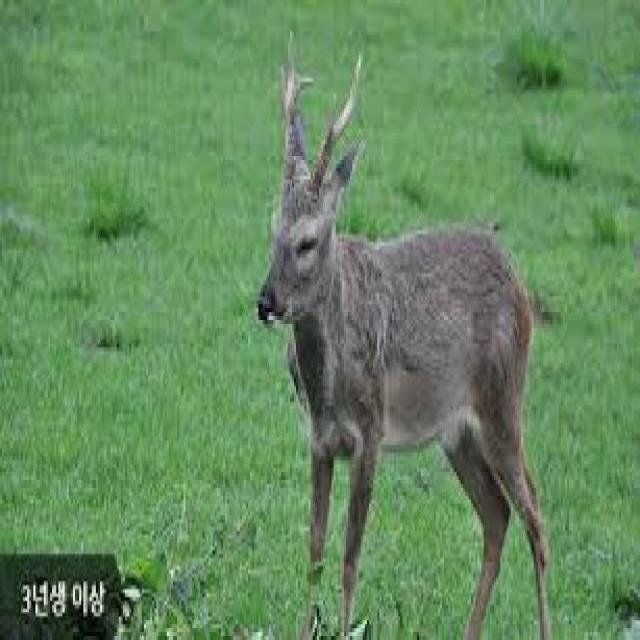deer: (254, 25, 560, 631)
